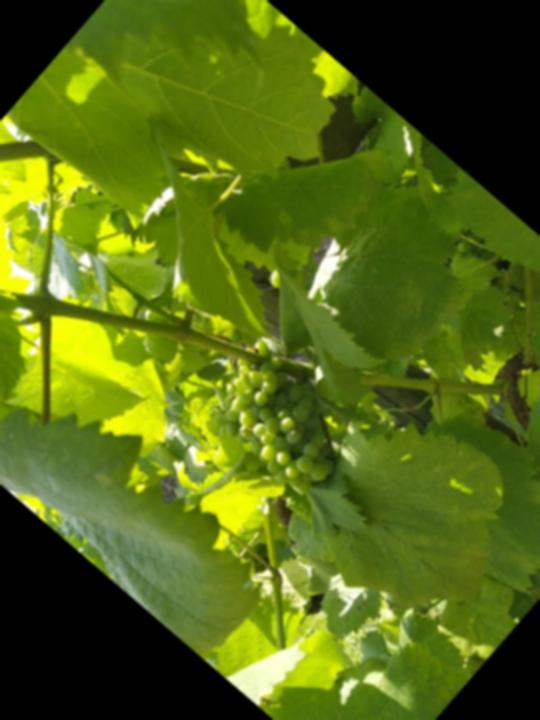grape: (188, 330, 371, 507)
